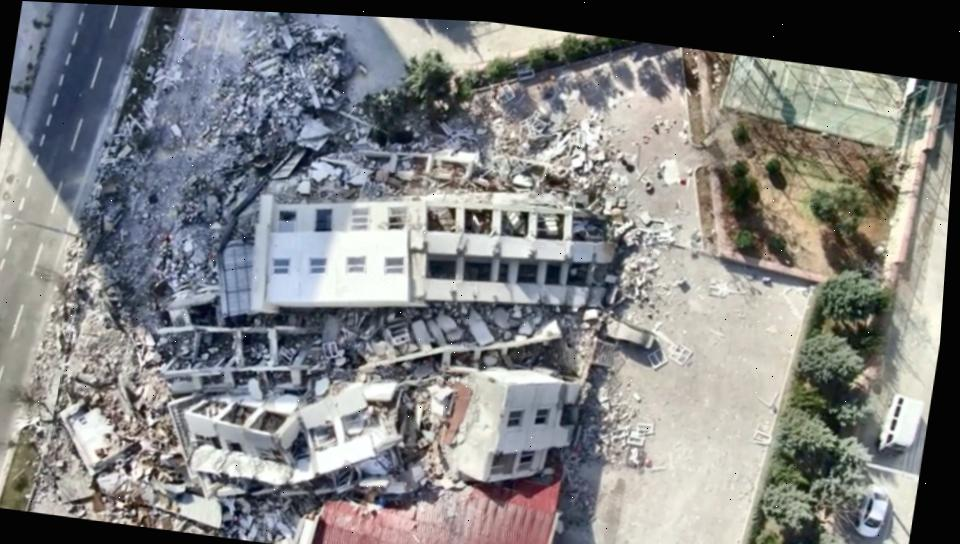kapali: (29, 8, 266, 524)
